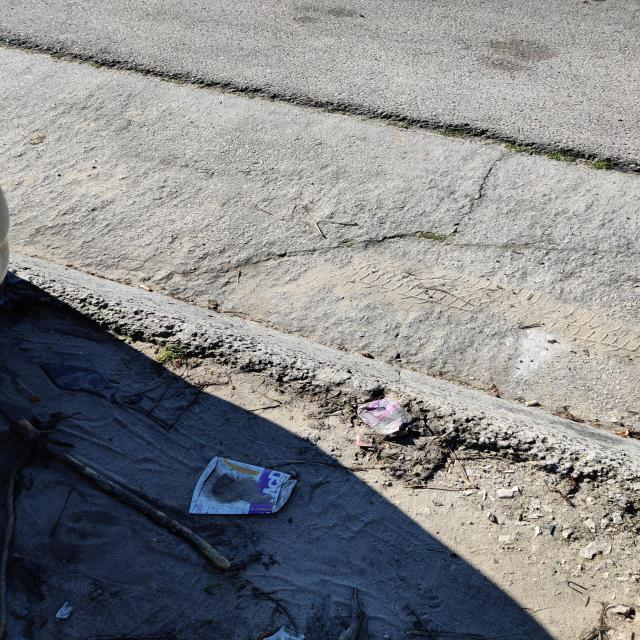litter: (185, 451, 303, 517)
